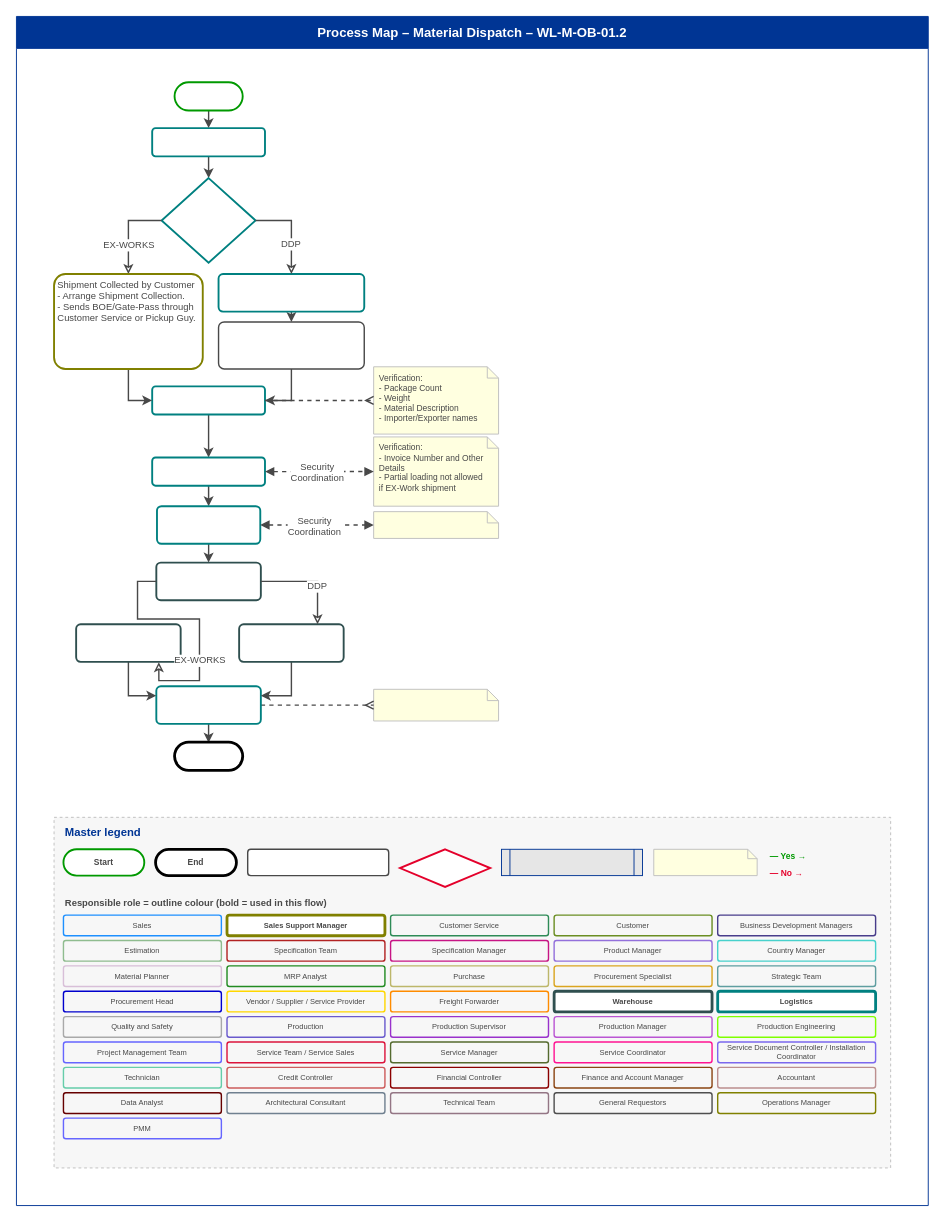
Some shapes in this 945 by 1222 pixel diagram are drawn without their labels. The box of each missing label's shape, as (x1, y1, x2, y2) in pixels:
- PGI : Post Goods Issue: (373, 511, 499, 538)
Acknowledgement on delivery Note by Receiver: (75, 623, 181, 662)
Activity (outline = role): (247, 848, 389, 876)
Arrange Shipment with Contracted Forwarder: (217, 273, 365, 312)
Completion of Shipping document: (151, 127, 265, 157)
Confirm Collection details: (151, 385, 265, 415)
Decision: (399, 848, 491, 887)
Delivery Acknowledged after material delivered to Customer: (238, 623, 344, 662)
DISPATCH PROCESS: (173, 81, 243, 111)
EXIT: (173, 740, 244, 771)
Freight forwards Invoice verification: (151, 456, 265, 486)
Hard copies are stored for 5 years: (373, 688, 499, 721)
Issue and Share PGI, Delivery Note & Warehouse Set: (156, 505, 261, 544)
Linked process (Ref ID): (501, 848, 642, 876)
Material Loaded as per Warehouse set document: (155, 561, 261, 601)
Note / checklist: (653, 848, 757, 876)
Sends BOE/Gate-Pass through e-mail. Arrange Shipment Collection.: (217, 321, 365, 369)
Type: (160, 177, 256, 263)
Update Details with all documents copy to SAP: (155, 685, 261, 724)
